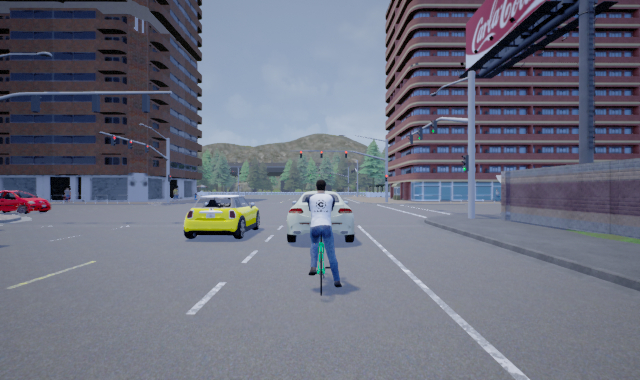bike: (308, 179, 344, 297)
pedestrian: (171, 186, 179, 202)
traffic_light: (460, 152, 470, 172), (430, 117, 438, 135), (417, 126, 424, 141), (111, 133, 118, 147), (127, 138, 133, 149), (144, 142, 150, 153), (298, 150, 304, 160), (343, 149, 349, 159), (319, 149, 324, 159), (384, 173, 389, 183)
vehicle: (285, 190, 354, 243), (183, 194, 260, 239), (1, 190, 50, 213)
